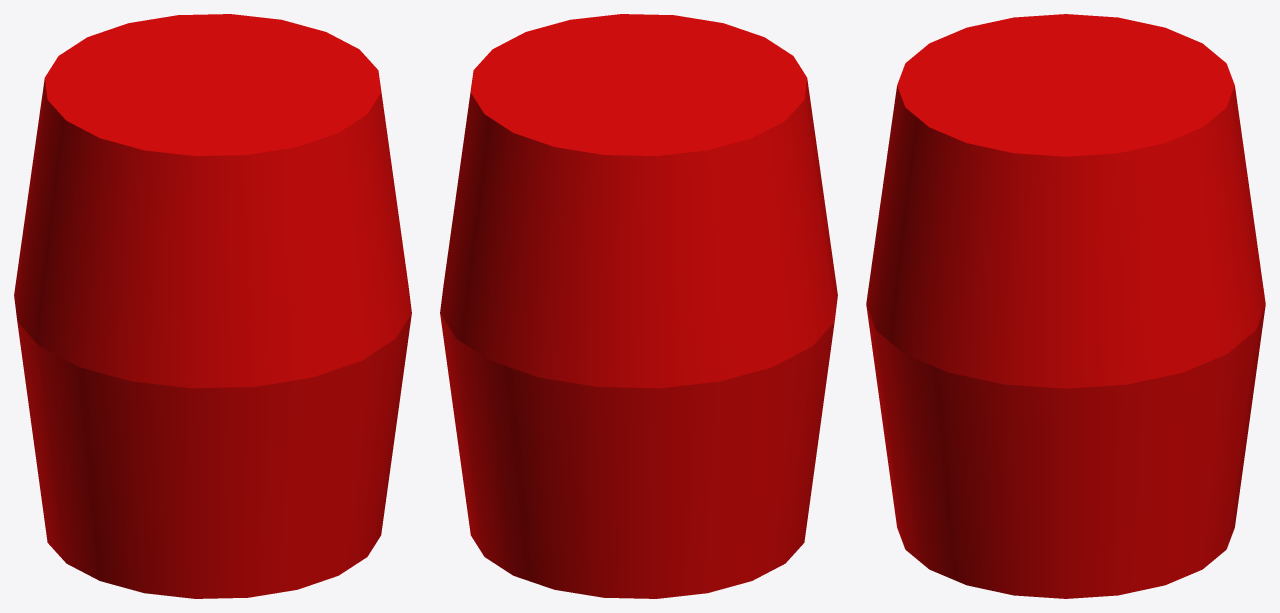
File: BarrelCollider.fbx
3 renders of one model, left to right at view 1: azimuth 30°, elevation 25°; view 2: azimuth 150°, elevation 25°; view 3: azimuth 270°, elevation 25°, orthographic.
Visible parts, largest first — view 1: BarrelCollision; view 2: BarrelCollision; view 3: BarrelCollision.
Part boxes in pixels (left/top/right/bottom): BarrelCollision: left=14, top=14, right=411, bottom=598; BarrelCollision: left=440, top=14, right=837, bottom=598; BarrelCollision: left=866, top=14, right=1265, bottom=598.
Size of the model in its own units: 85.29 by 104 by 85.29.
